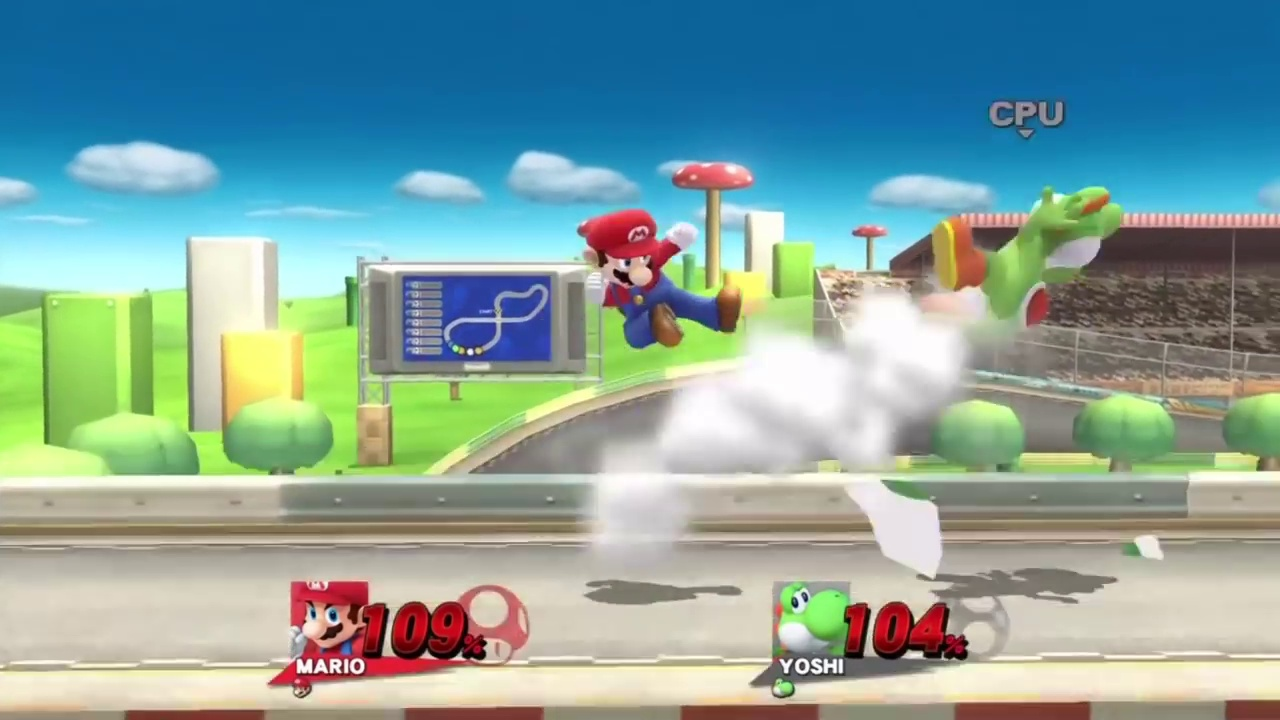Mario: (586, 209, 744, 350)
